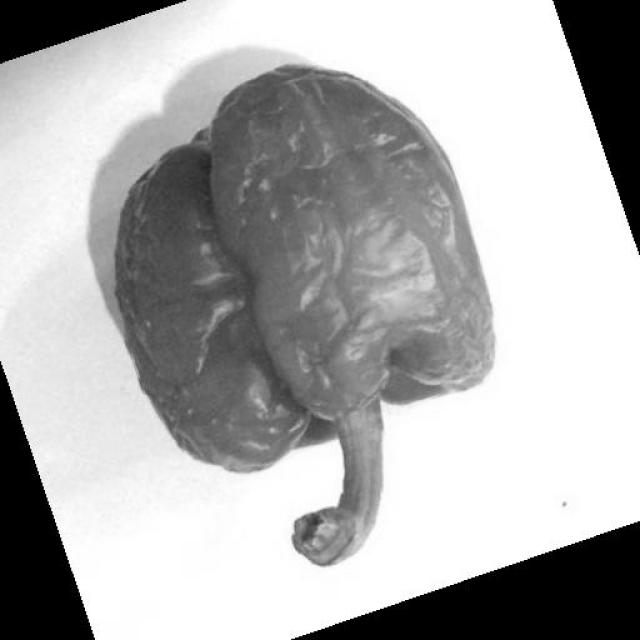Stale_Capsicum: (102, 75, 517, 553)
